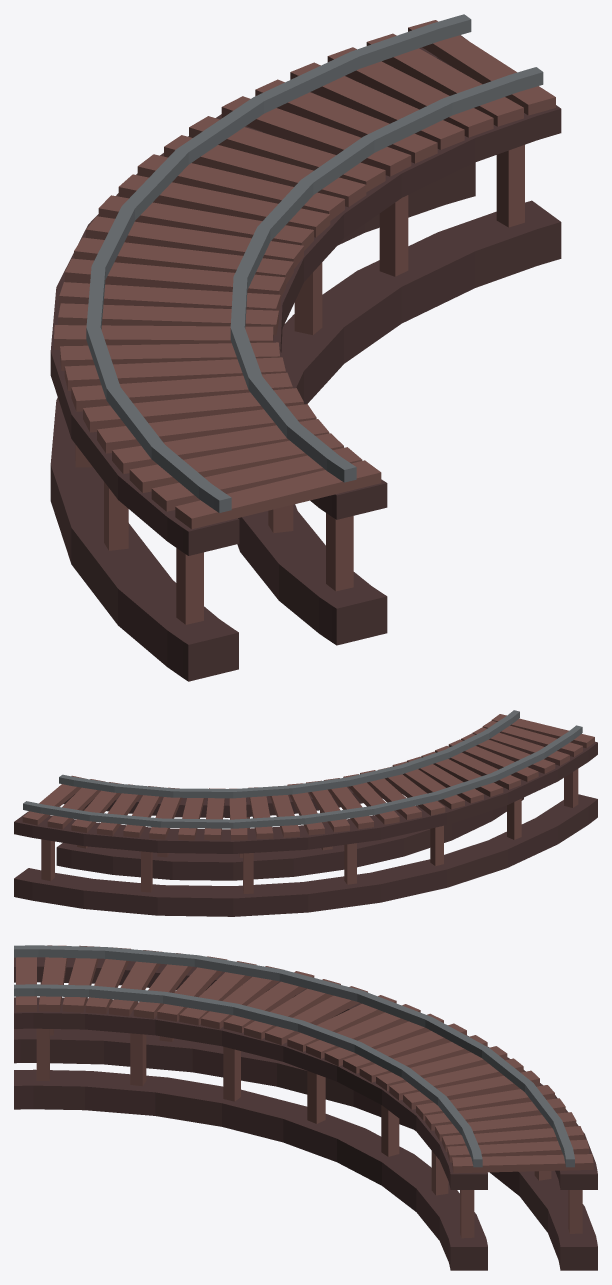
The model's file is DarkRoseWoodMechSmall1_5GaugeLeftTurn1.fbx.
3 renders of one model, top to bottom at view 1: azimuth 30°, elevation 25°; view 2: azimuth 150°, elevation 25°; view 3: azimuth 270°, elevation 25°, orthographic. The views are drawn at different scales.
Parts seen in each view (by area): view 1: DarkRoseWoodMechSmall1_5GaugeRightTurn1; view 2: DarkRoseWoodMechSmall1_5GaugeRightTurn1; view 3: DarkRoseWoodMechSmall1_5GaugeRightTurn1.
Boxes of the visible parts, <box> form: DarkRoseWoodMechSmall1_5GaugeRightTurn1: <box>50,14,561,681</box>; DarkRoseWoodMechSmall1_5GaugeRightTurn1: <box>14,710,597,916</box>; DarkRoseWoodMechSmall1_5GaugeRightTurn1: <box>14,945,597,1270</box>.
Size of the model in its own units: 951 by 221 by 1050.
